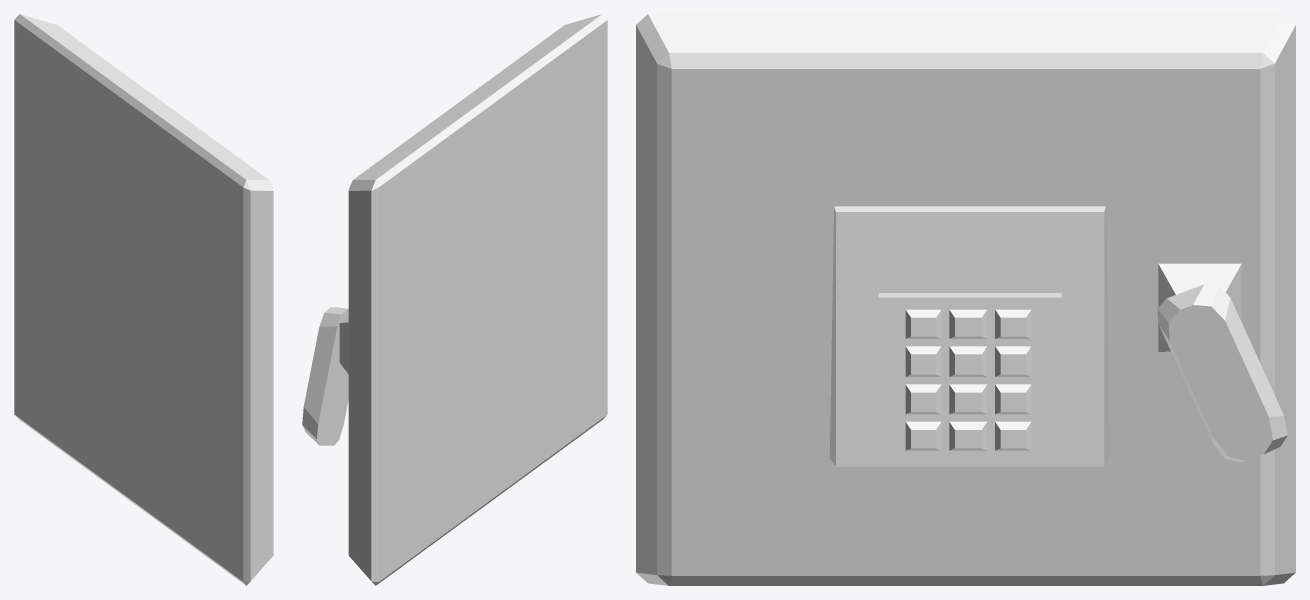
File: SafeDoor.fbx
The picture shows the model from 3 angles, left to right: view 1: azimuth 30°, elevation 25°; view 2: azimuth 150°, elevation 25°; view 3: azimuth 270°, elevation 25°; orthographic projection. The views are drawn at different scales.
Parts seen in each view (by area): view 1: SafeDoor; view 2: SafeDoor; view 3: SafeDoor.
Boxes of the visible parts, x1,y1,x2,y2 form: SafeDoor: (14, 14, 273, 585); SafeDoor: (302, 14, 607, 585); SafeDoor: (636, 14, 1295, 585).
Bounding box in the file's own units: 11.49 × 54.68 × 57.44.
Materials: 1 (1 with a texture image).
